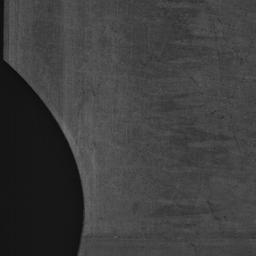Crescent gap: (4, 60, 84, 256)
